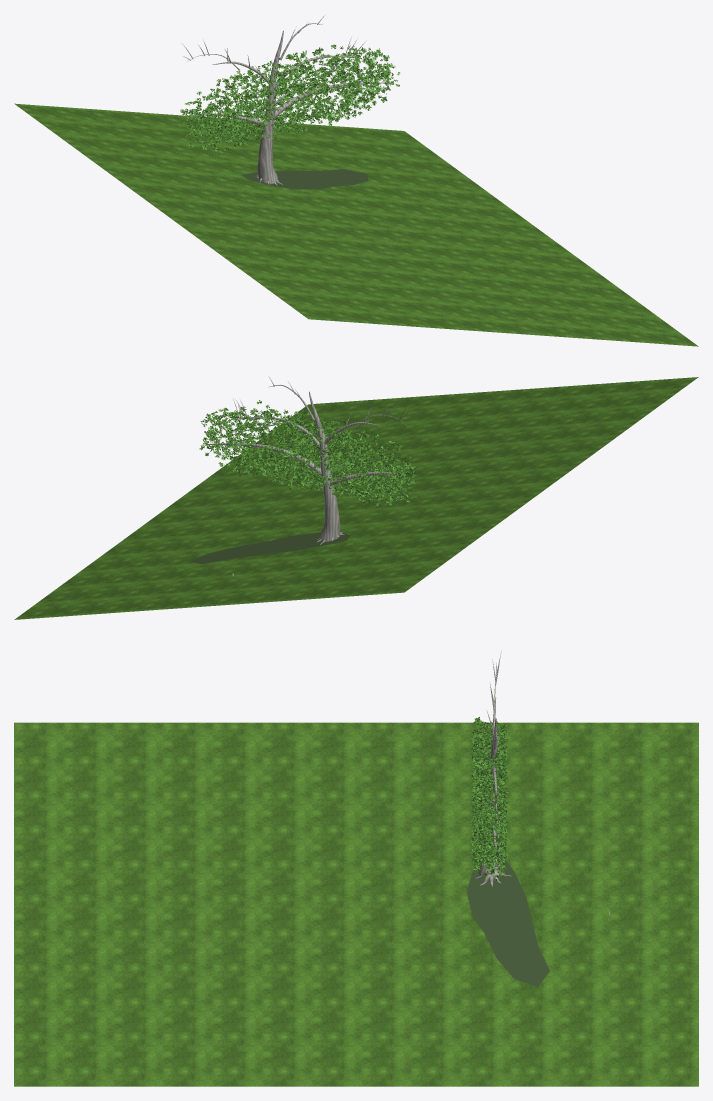
The model's file is v51_monumental_tree.glb.
3 views of the same model, one above another, from view 1: azimuth 30°, elevation 25°; view 2: azimuth 150°, elevation 25°; view 3: azimuth 270°, elevation 25° (orthographic). The views are drawn at different scales.
Visible parts, largest first — view 1: GEO-DREAM-tree-sloped-grass-hill, GEO-DREAM-tree-canopy-leaf-masses, GEO-DREAM-tree-runtime-canopy-shadow, GEO-DREAM-tree-main-trunk; view 2: GEO-DREAM-tree-sloped-grass-hill, GEO-DREAM-tree-canopy-leaf-masses, GEO-DREAM-tree-runtime-canopy-shadow, GEO-DREAM-tree-main-trunk; view 3: GEO-DREAM-tree-sloped-grass-hill, GEO-DREAM-tree-runtime-canopy-shadow, GEO-DREAM-tree-canopy-leaf-masses.
Boxes of the visible parts, <box> form: GEO-DREAM-tree-sloped-grass-hill: <box>14,103,698,346</box>; GEO-DREAM-tree-canopy-leaf-masses: <box>180,44,399,153</box>; GEO-DREAM-tree-runtime-canopy-shadow: <box>241,169,368,189</box>; GEO-DREAM-tree-main-trunk: <box>257,30,283,183</box>; GEO-DREAM-tree-sloped-grass-hill: <box>14,377,698,619</box>; GEO-DREAM-tree-canopy-leaf-masses: <box>199,400,416,505</box>; GEO-DREAM-tree-runtime-canopy-shadow: <box>190,532,349,564</box>; GEO-DREAM-tree-main-trunk: <box>309,391,340,541</box>; GEO-DREAM-tree-sloped-grass-hill: <box>14,722,698,1086</box>; GEO-DREAM-tree-runtime-canopy-shadow: <box>466,860,549,986</box>; GEO-DREAM-tree-canopy-leaf-masses: <box>471,717,508,880</box>.
Size of the model in its own units: 88 by 48.82 by 115.
9 materials, 6 textured.
